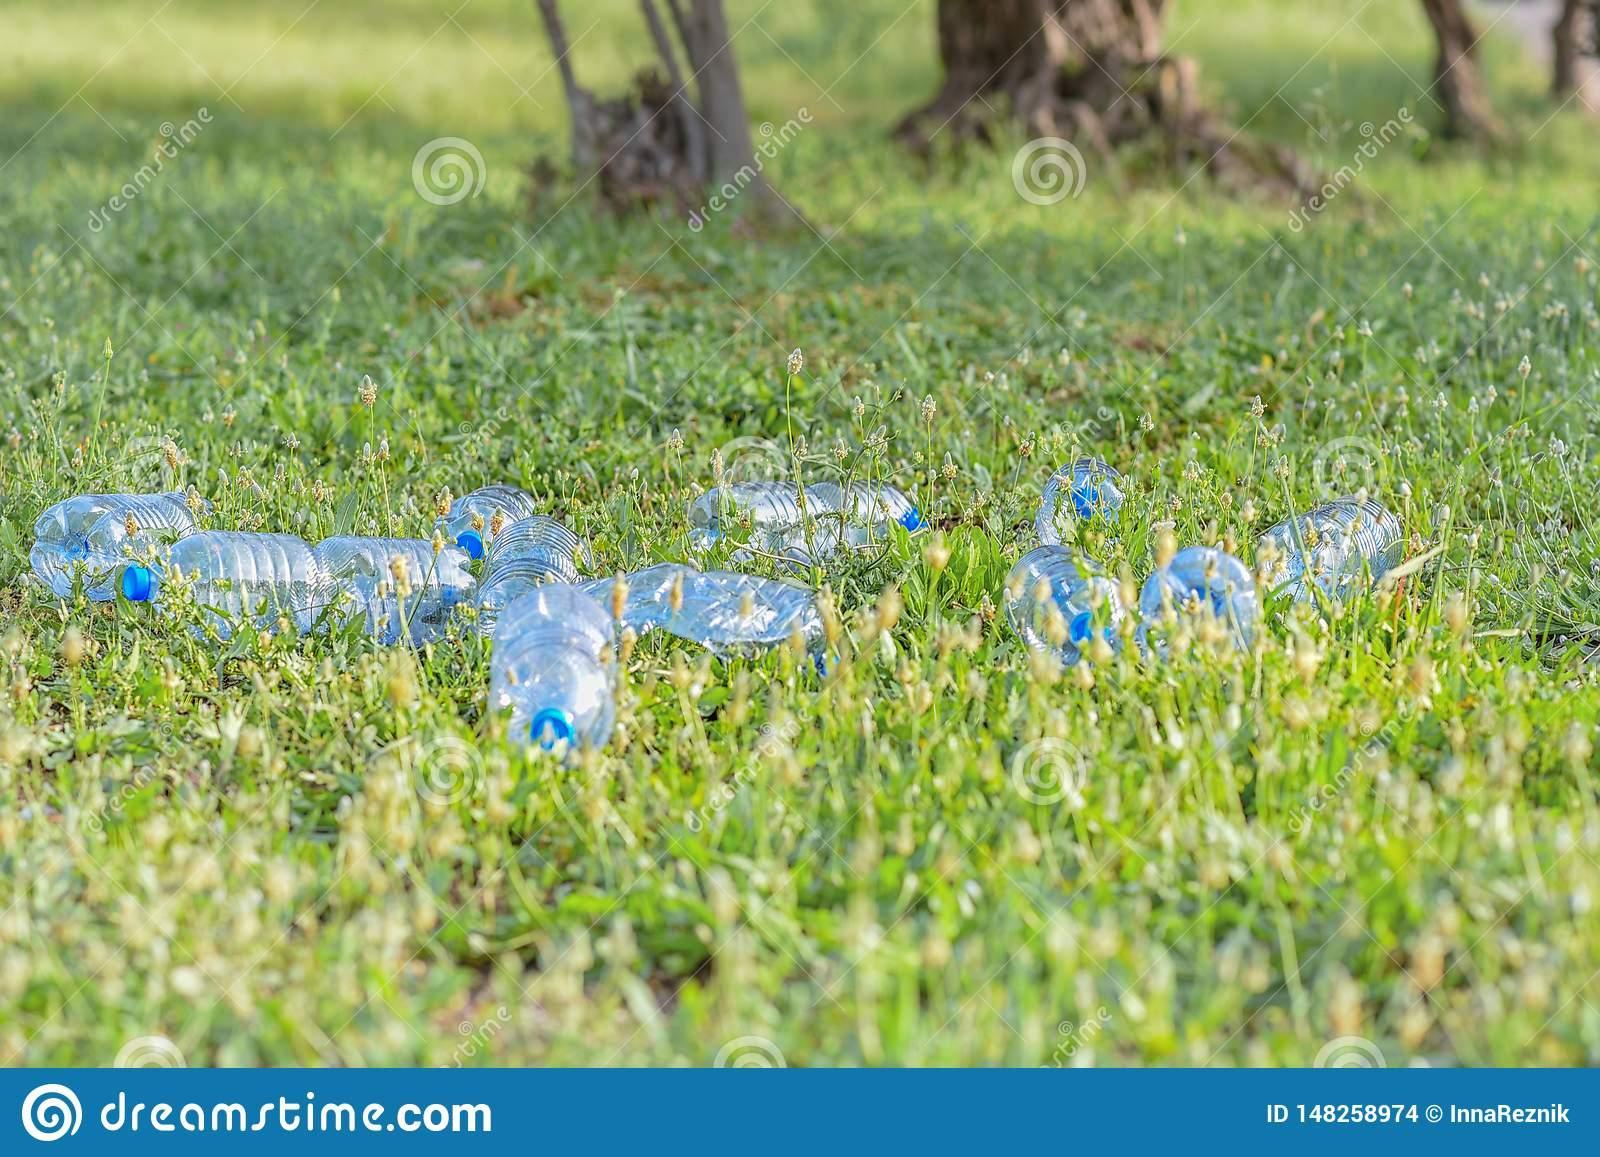bottle: (101, 507, 443, 676), (668, 457, 957, 580), (478, 560, 624, 783)
